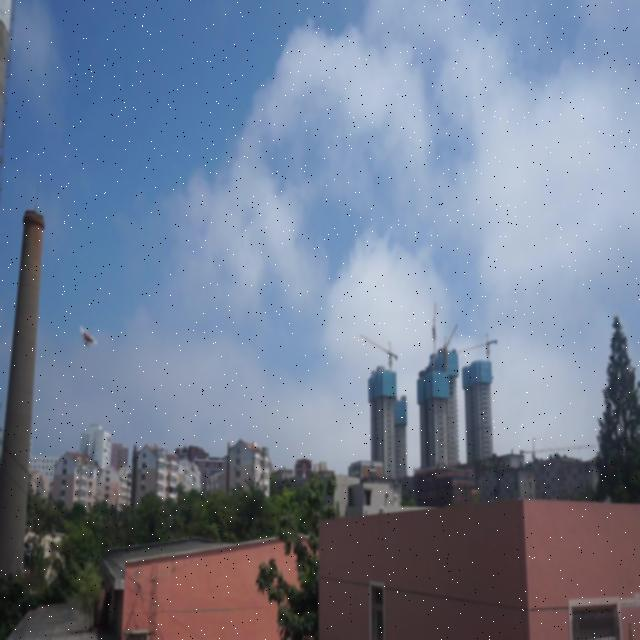UAV: (79, 326, 98, 348)
